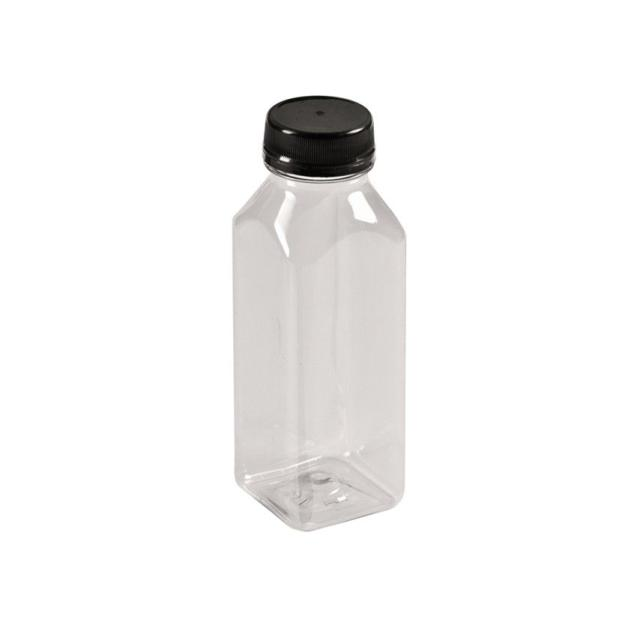bottom: (226, 443, 418, 539)
cap: (247, 92, 396, 188)
